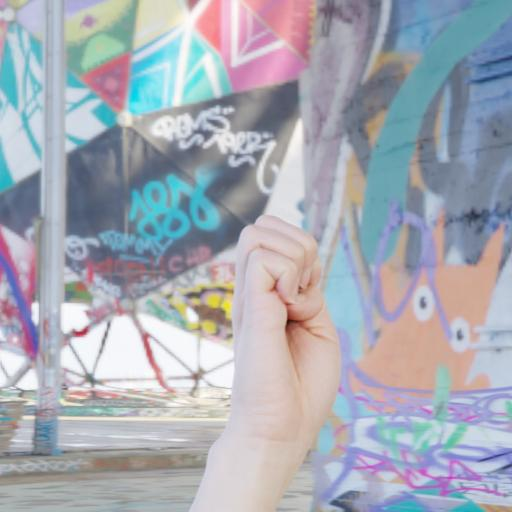E: (221, 198, 344, 462)
